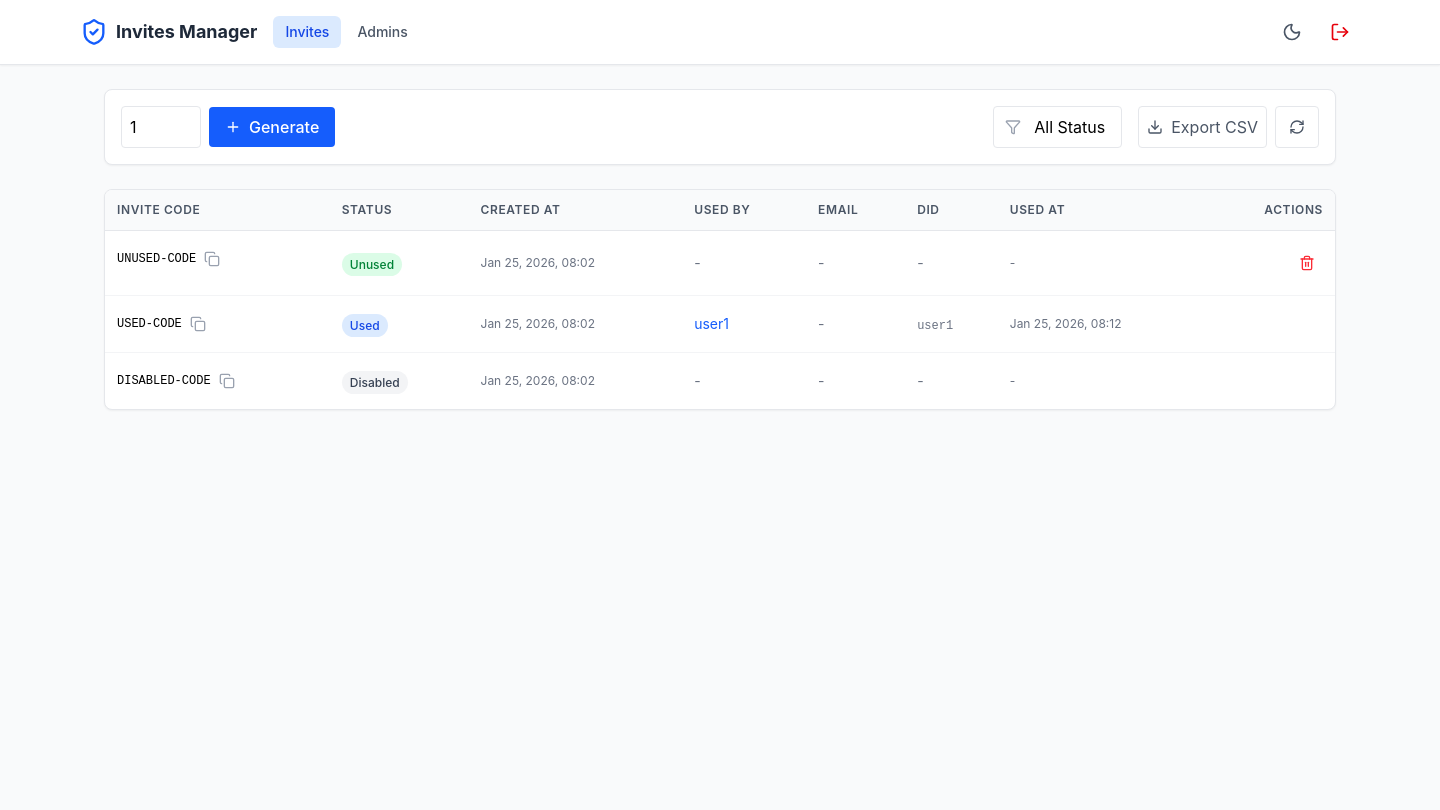
Scenario: admins page › adds an admin and reveals the generated password
Expected: the text "UNUSED-CODE" is shown, [105,231,330,287]
Click the button "Admins": {"x": 383, "y": 32} [345,16,420,48]
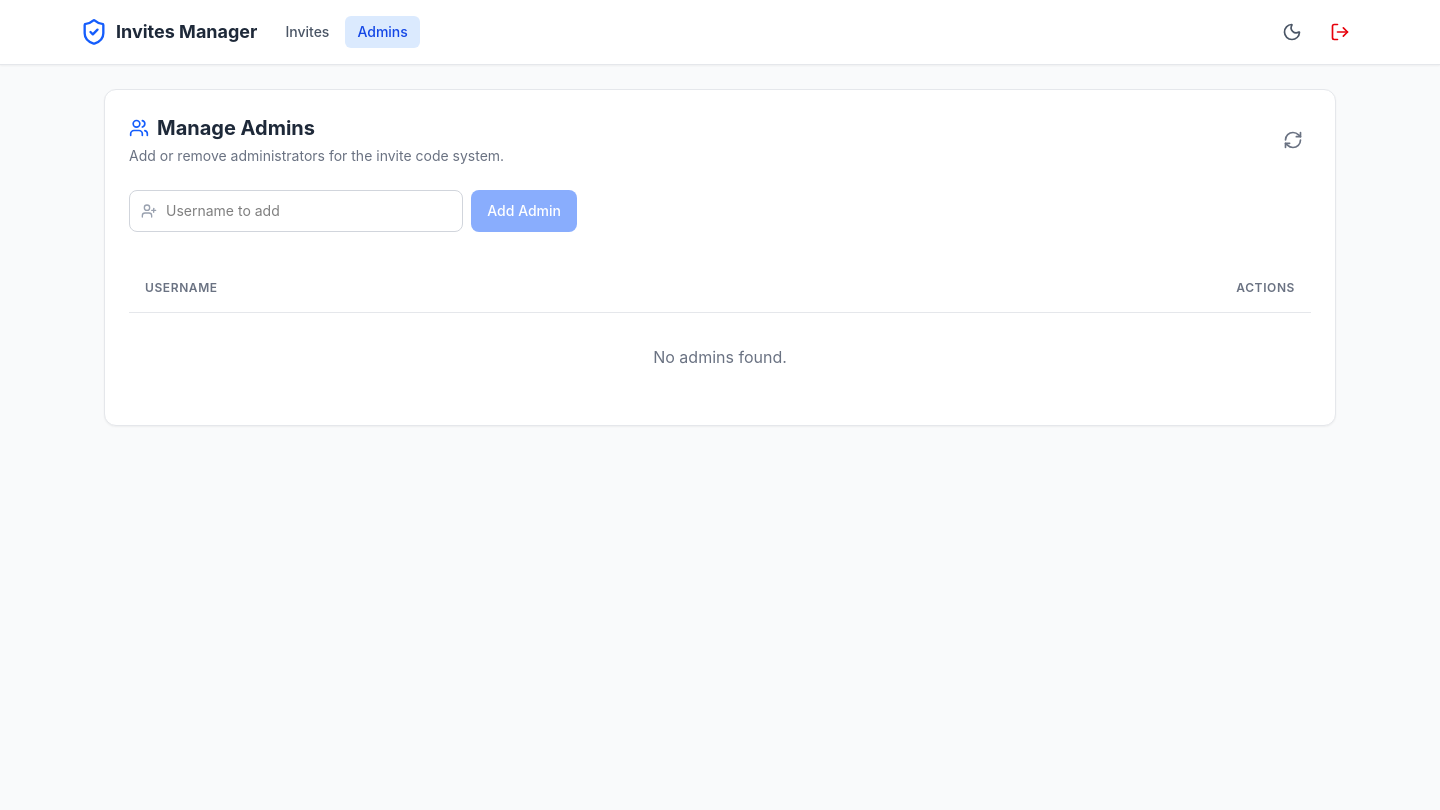
Expected: the text "No admins found." is shown, [129,312,1311,401]
In the field with placeholder "Username to add": {"x": 296, "y": 211} [129,190,463,232], type "bob"
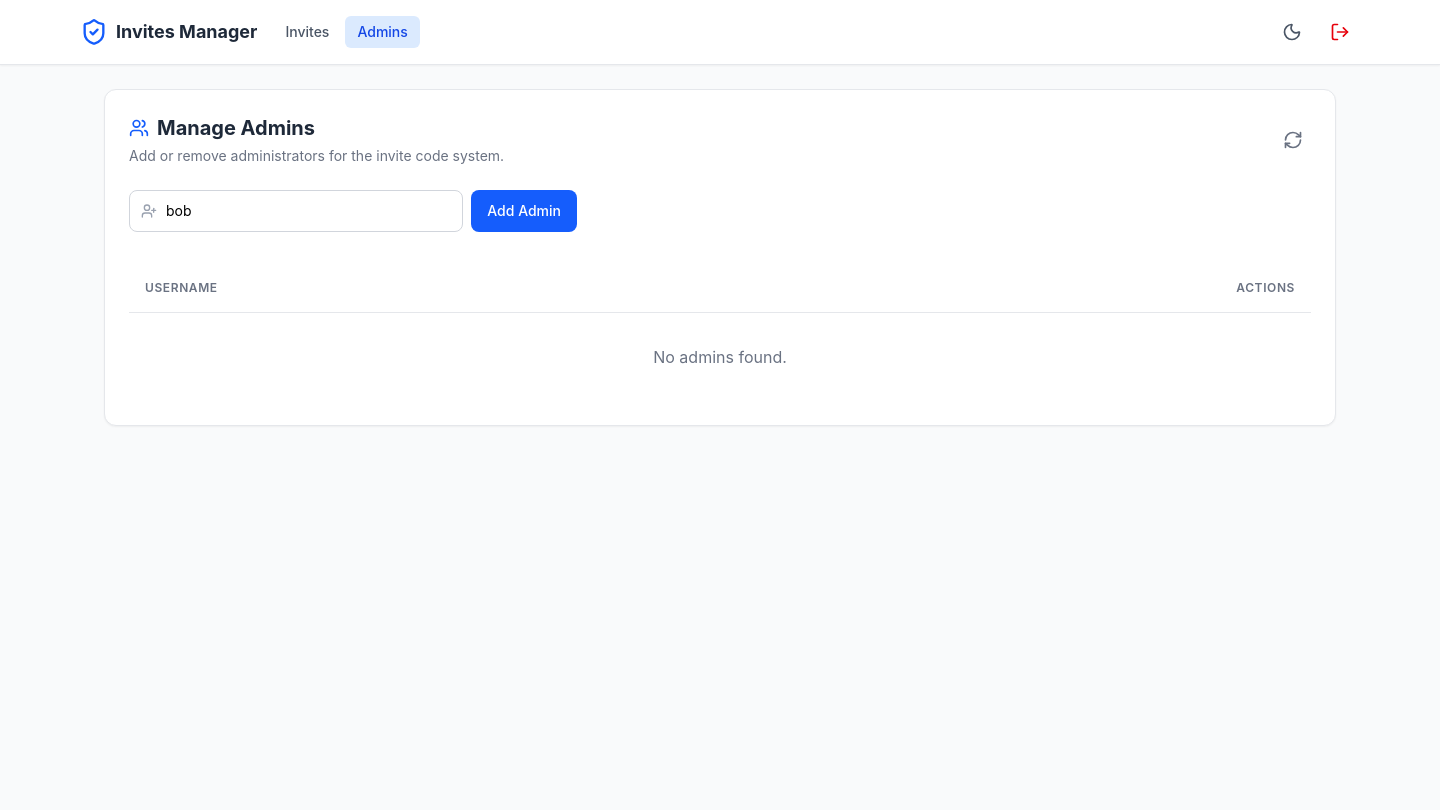
Click the button "Add Admin": {"x": 524, "y": 211} [471,190,577,232]
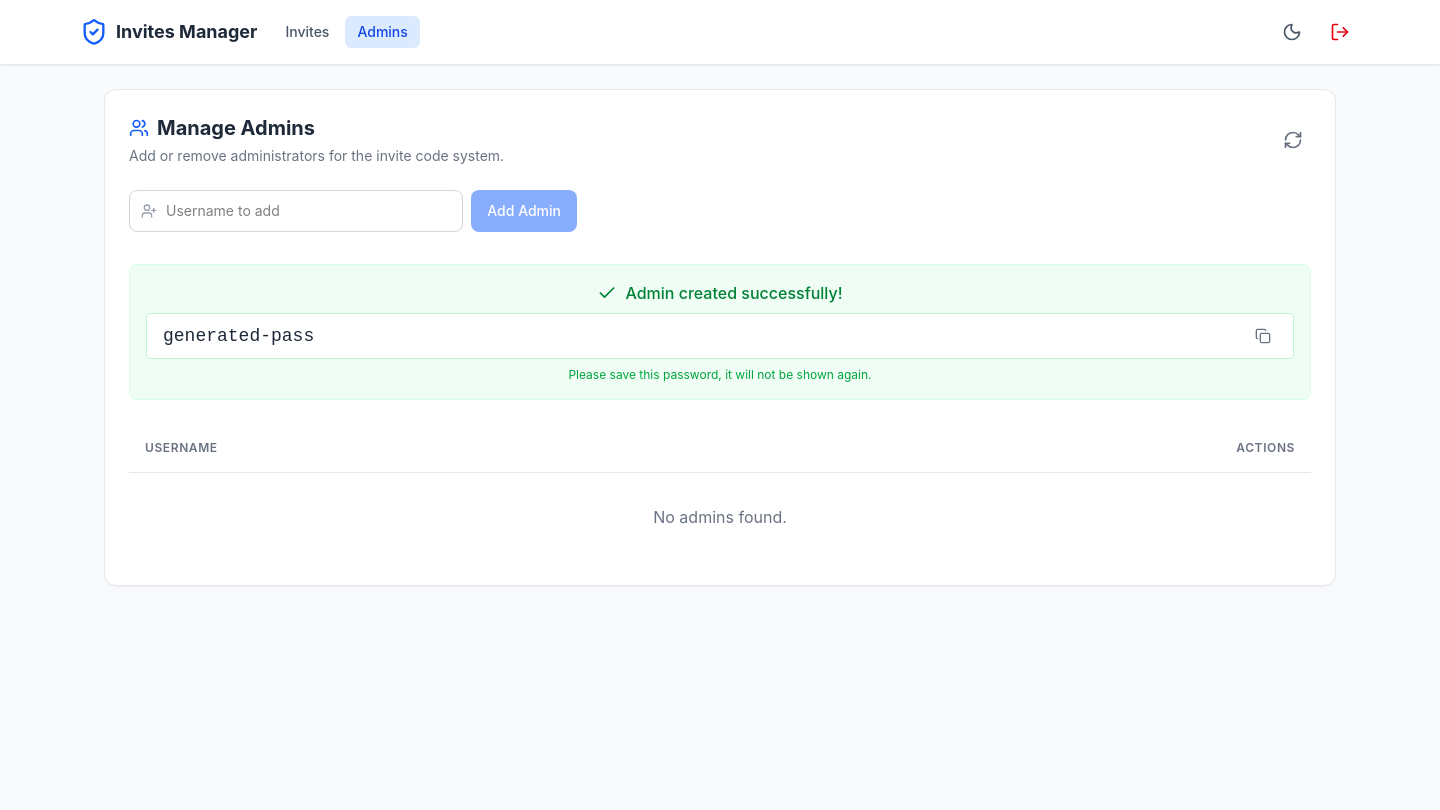
Expected: the text "generated-pass" is shown, [163,322,314,350]
